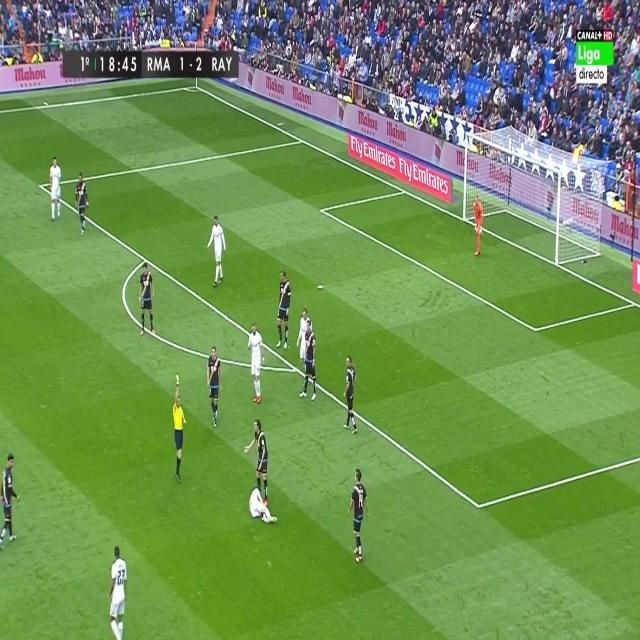Goalkeeper: (471, 193, 484, 259)
Player: (348, 464, 372, 564), (243, 416, 270, 498), (108, 543, 130, 640), (0, 450, 20, 552), (205, 212, 229, 289), (296, 320, 318, 404), (273, 268, 293, 354), (204, 345, 224, 430), (247, 321, 266, 407), (247, 483, 280, 529), (137, 262, 156, 340), (342, 355, 358, 438), (48, 156, 62, 224), (297, 304, 311, 371), (75, 171, 89, 237)
Referee: (170, 379, 188, 486)
